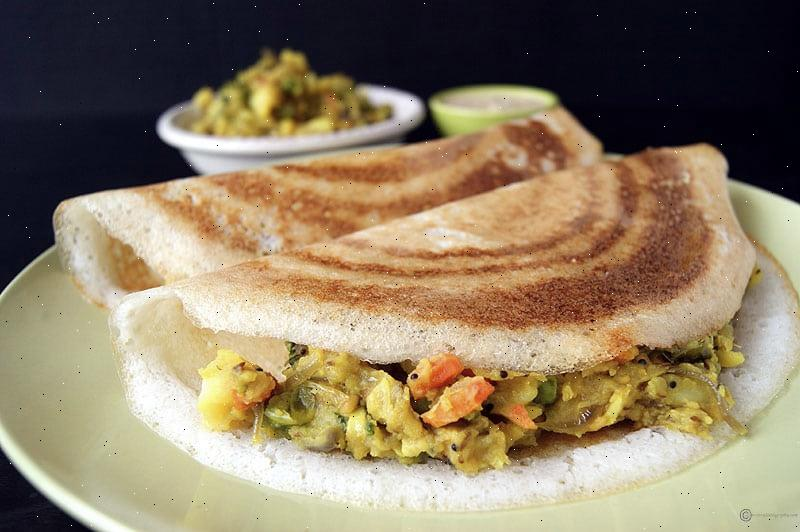aloo sabji: (192, 82, 377, 143)
dosa: (140, 151, 758, 455)
